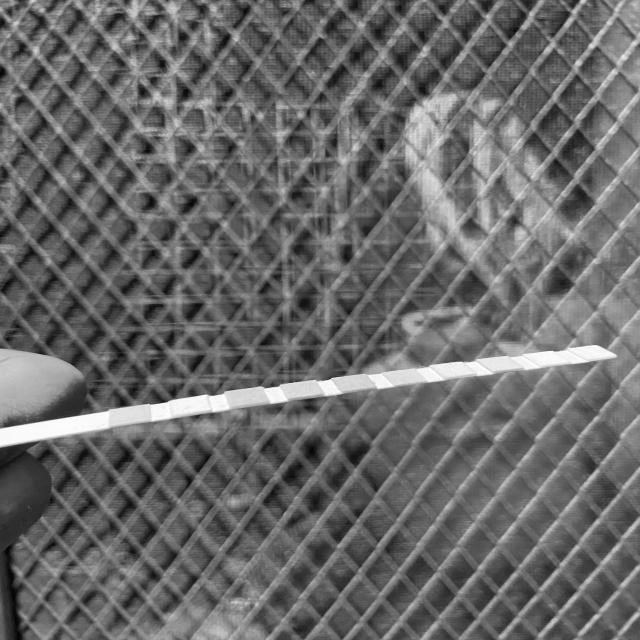Bilirubin: (173, 400, 209, 410)
Blood: (342, 376, 367, 388)
Glucose: (110, 410, 149, 419)
Ketone: (231, 391, 264, 402)
Leukocytes: (585, 347, 601, 358)
Nitrite: (540, 352, 555, 364)
Protein: (445, 363, 464, 376)
SpGravity: (289, 384, 317, 395)
Urobilinogen: (494, 358, 510, 369)
background: (0, 0, 640, 640)
pH: (394, 371, 416, 382)
strip: (1, 345, 617, 447)
